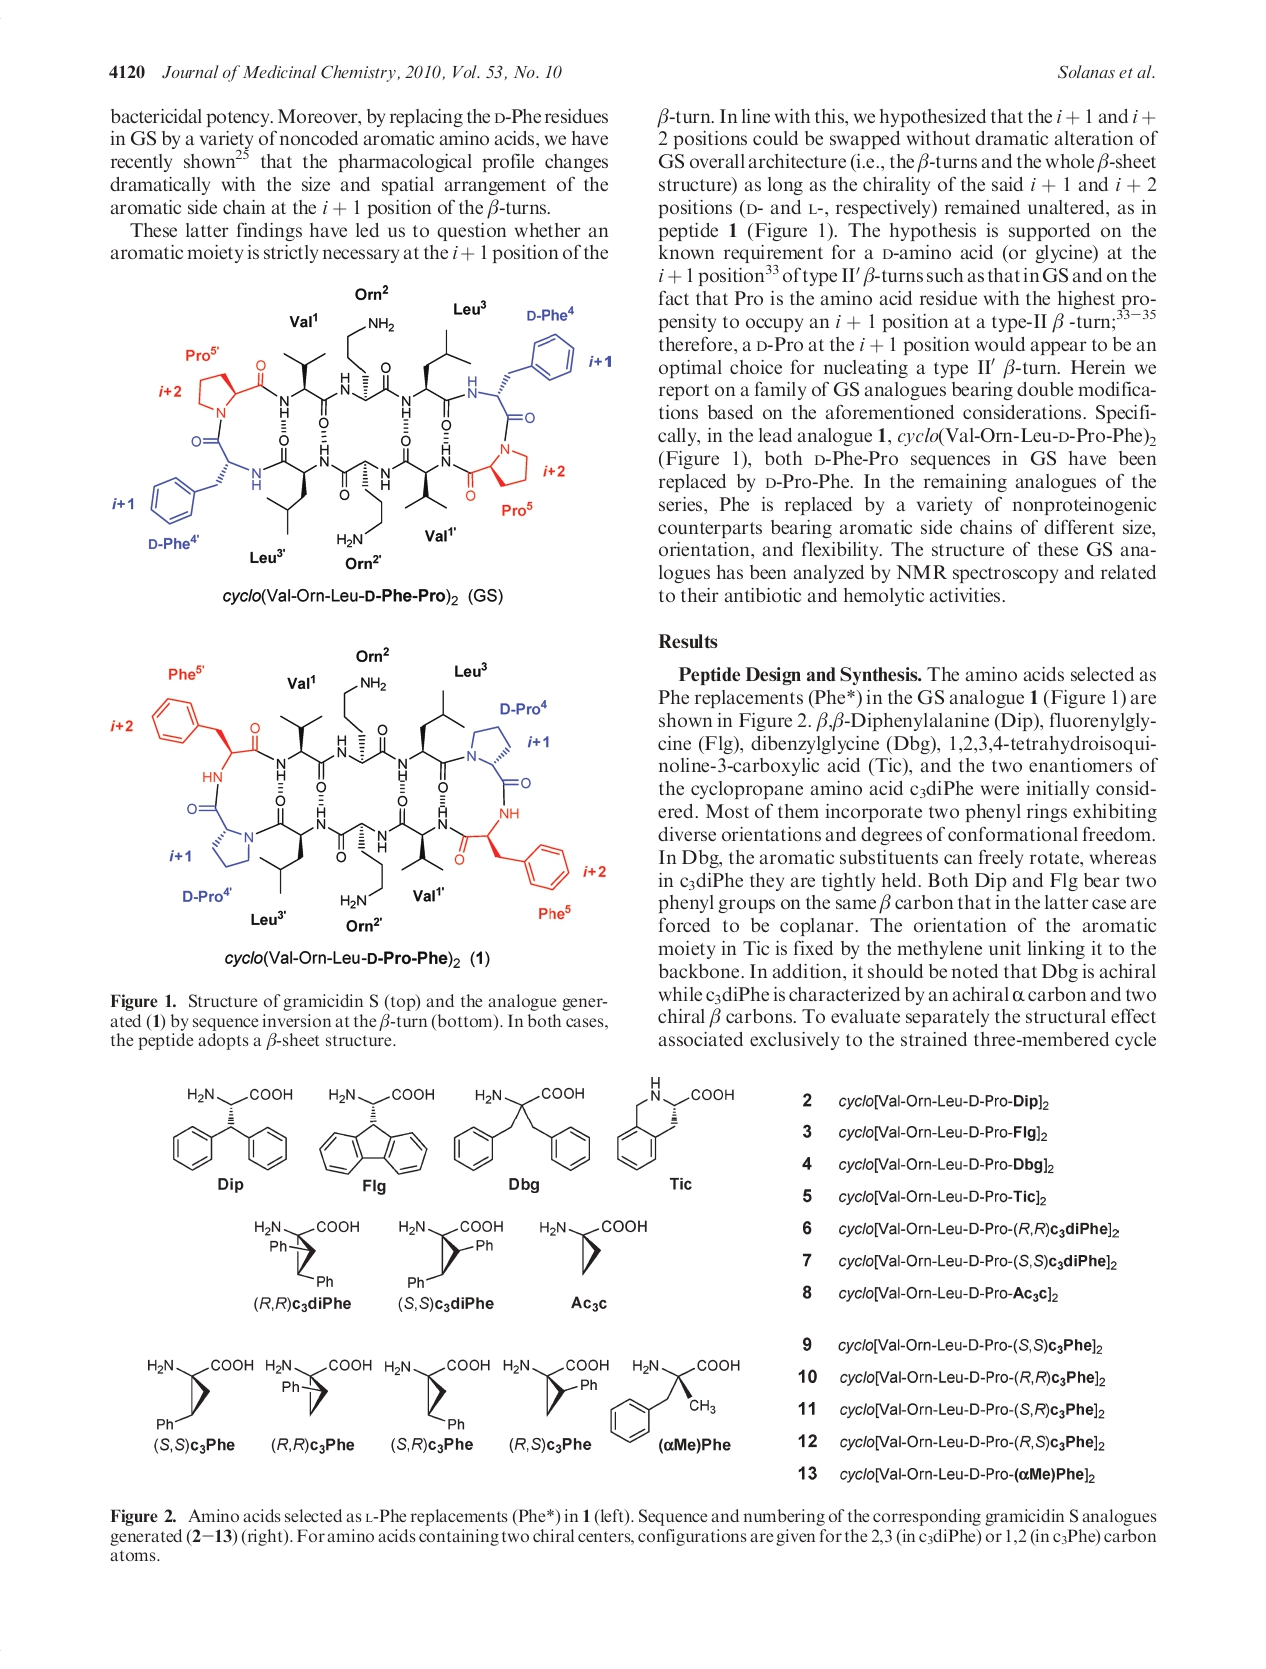exist_molecular: (142, 669, 577, 910), (137, 315, 586, 543), (452, 1079, 601, 1182), (608, 1352, 749, 1446), (610, 1071, 737, 1172), (168, 1076, 297, 1174), (316, 1081, 444, 1176), (390, 1214, 511, 1297), (243, 1210, 366, 1291), (128, 1356, 259, 1430), (380, 1352, 496, 1431), (539, 1208, 652, 1282), (261, 1352, 375, 1418), (501, 1351, 606, 1412)
